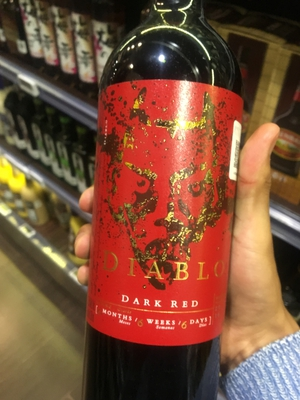diablo dark red: (77, 18, 244, 400)
